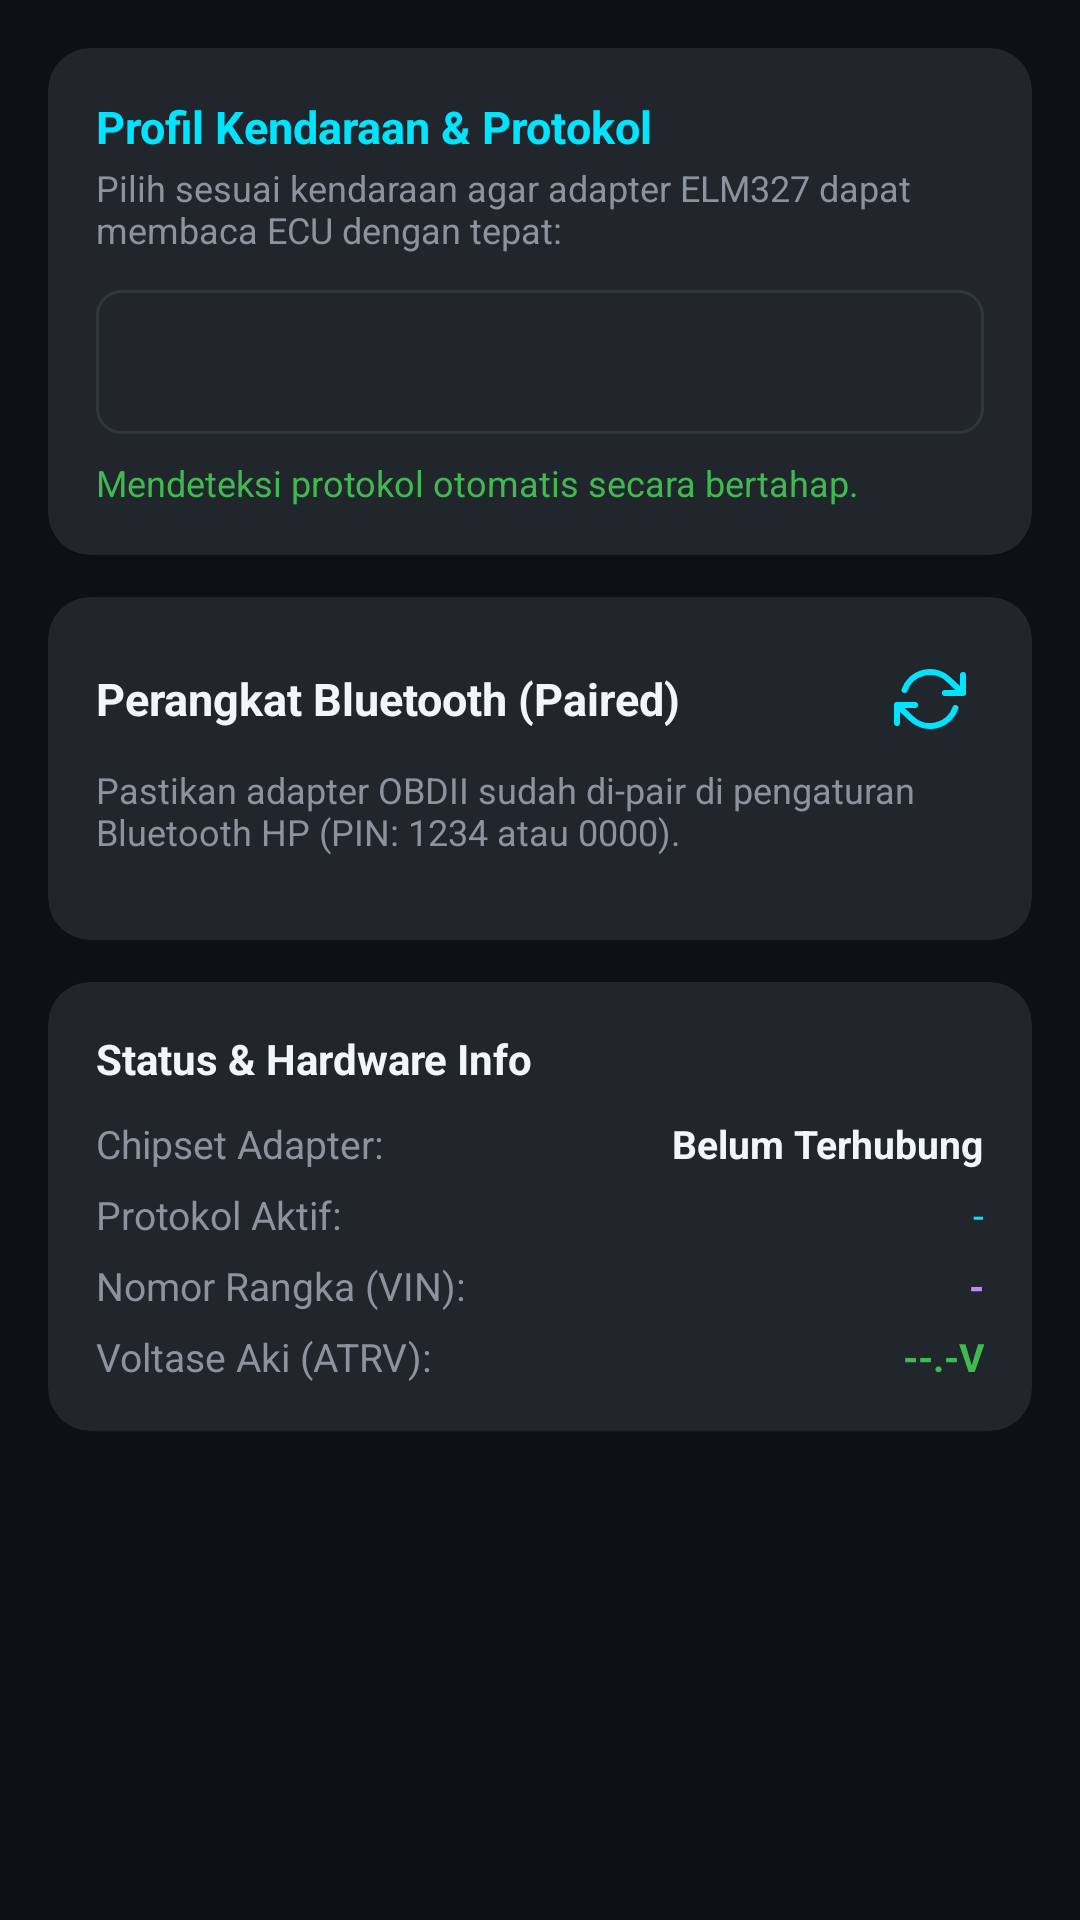

Where to tap for icons on this 1080×1920 app screen, as (x=x, y=y):
Refresh: (x=930, y=699)
